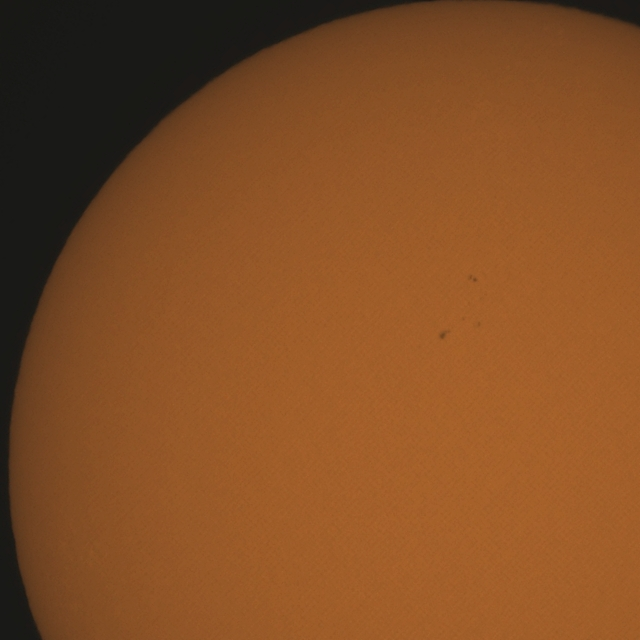sunspot: (438, 328, 452, 341), (467, 274, 478, 284)
